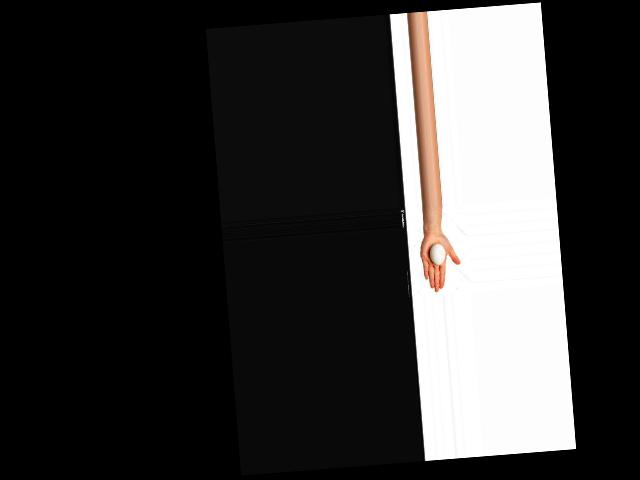egg: (429, 243, 445, 265)
